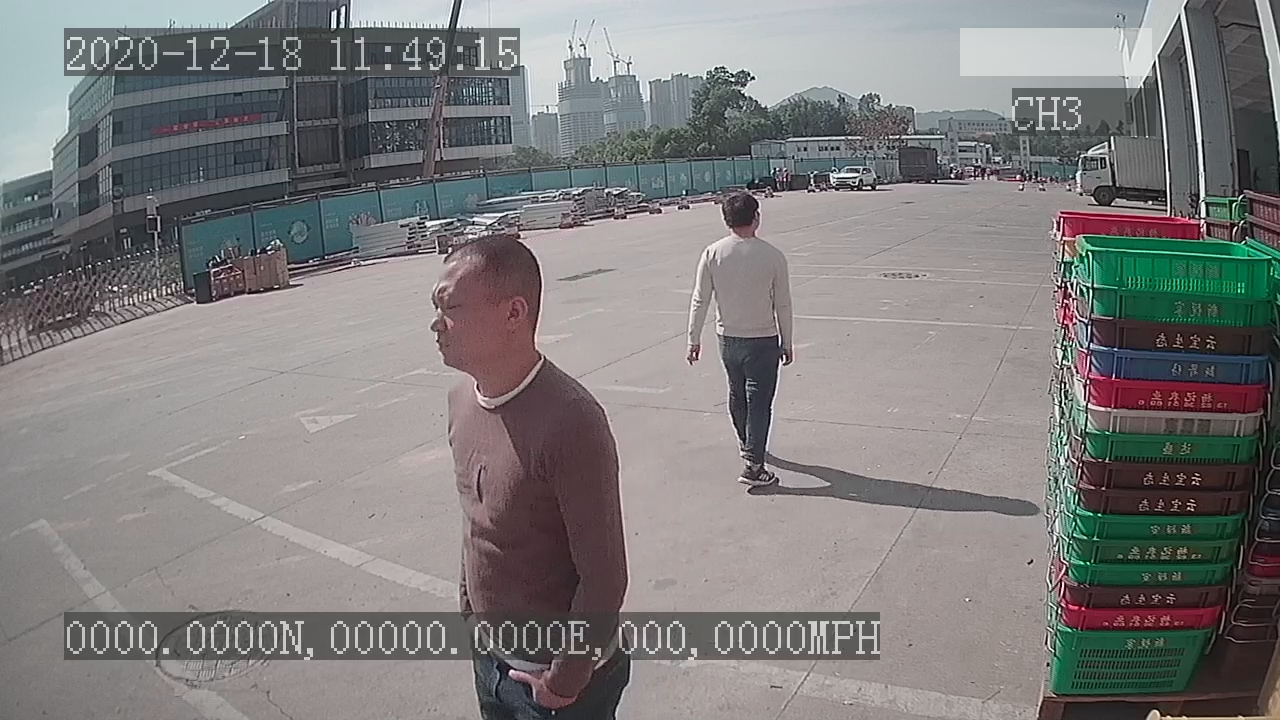person: (681, 188, 799, 492)
